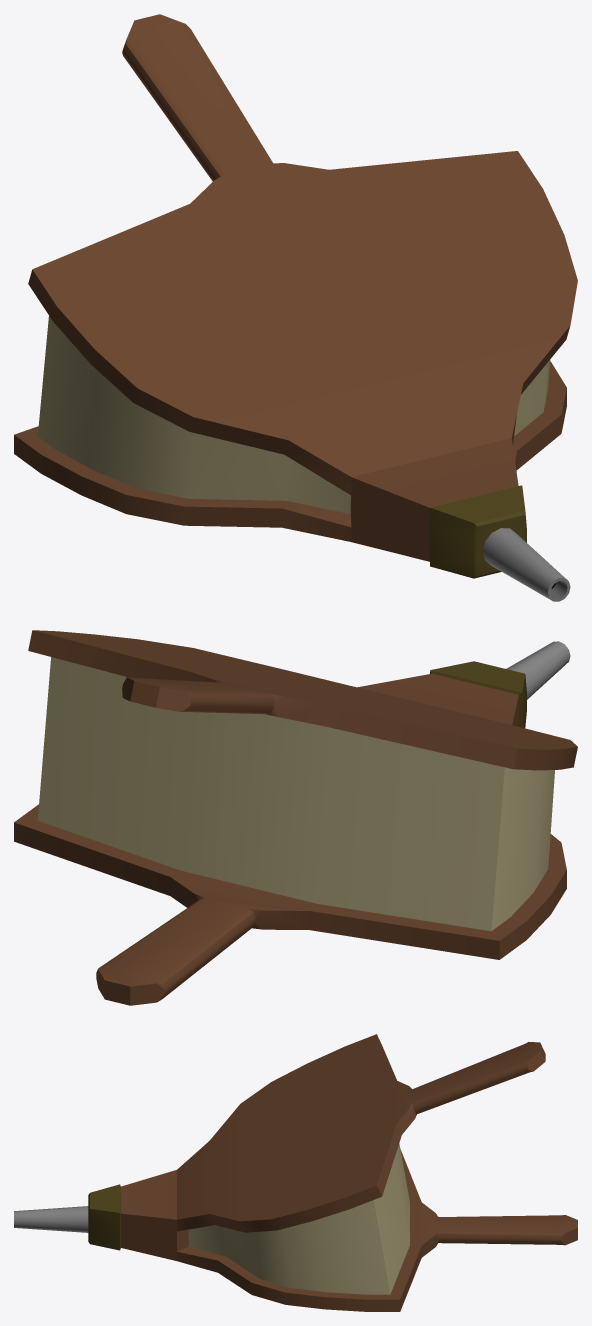
The model's file is Bellows.fbx.
3 views of the same model, one above another, from view 1: azimuth 30°, elevation 25°; view 2: azimuth 150°, elevation 25°; view 3: azimuth 270°, elevation 25° (orthographic). The views are drawn at different scales.
Parts seen in each view (by area): view 1: Plane; view 2: Plane; view 3: Plane.
Boxes of the visible parts, left/top/right/bottom form: Plane: left=14, top=14, right=577, bottom=601; Plane: left=14, top=630, right=577, bottom=1005; Plane: left=14, top=1034, right=577, bottom=1311.
Size of the model in its own units: 0.6606 by 0.3863 by 1.04.
